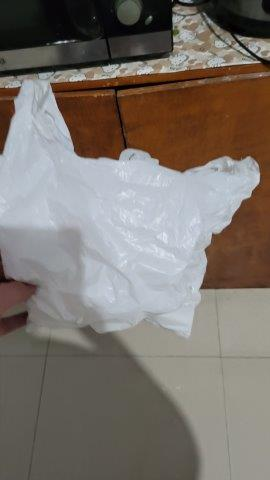plastik: (1, 81, 260, 340)
